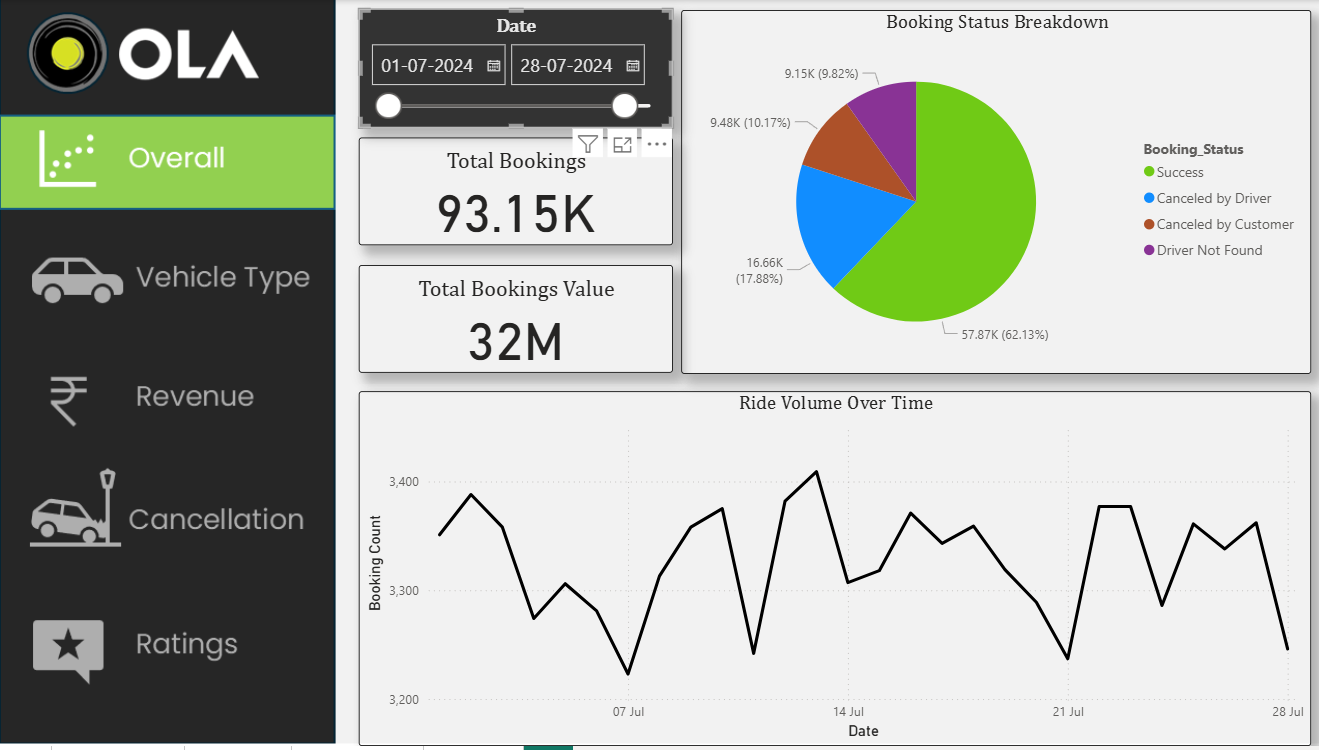

The page's visual inventory and layout, read from the dashboard file:
{"tool":"powerbi","page":{"name":"Overall","canvas":[1280,720],"ordinal":0},"visuals":[{"type":"actionButton","box":[0,220.8,324.5,92.9],"z":0},{"type":"actionButton","box":[0,341.4,324.5,92.9],"z":1000},{"type":"actionButton","box":[0,450,324.5,92.9],"z":2000},{"type":"actionButton","box":[0,581.5,324.5,92.9],"z":3000},{"type":"lineChart","title":"Ride Volume Over Time","fields":{"Category":["July.Date"],"Y":["CountNonNull(July.Booking_ID)"]},"box":[346.2,377.6,919.3,342.6],"z":4000},{"type":"actionButton","box":[0,108.6,324.5,92.9],"z":5000},{"type":"pieChart","title":"Booking Status Breakdown","fields":{"Category":["July.Booking_Status"],"Y":["CountNonNull(July.Booking_Status)"]},"box":[657.5,9.7,608,351.1],"z":6000},{"type":"slicer","title":"Date","fields":{"Values":["July.Date"]},"box":[346.2,8.4,302.8,114.6],"z":7000},{"type":"card","title":"Total Bookings","fields":{"Values":["Count(July.Booking_ID)"]},"box":[346.2,132.7,302.8,103.8],"z":8000},{"type":"card","title":"Total Bookings Value","fields":{"Values":["Sum(July.Booking_Value)"]},"box":[345.8,255.2,303.3,104.3],"z":9000}]}

Visuals, with their boxes in screenshot pixels (x1, y1, x2, y2), scaled from the page's 1280x720 canvas onto the 1319x750 screenshot:
actionButton: bbox(0, 230, 334, 327)
actionButton: bbox(0, 356, 334, 452)
actionButton: bbox(0, 469, 334, 566)
actionButton: bbox(0, 606, 334, 702)
"Ride Volume Over Time" lineChart: bbox(357, 393, 1304, 749)
actionButton: bbox(0, 113, 334, 210)
"Booking Status Breakdown" pieChart: bbox(678, 10, 1304, 376)
"Date" slicer: bbox(357, 9, 669, 128)
"Total Bookings" card: bbox(357, 138, 669, 246)
"Total Bookings Value" card: bbox(356, 266, 669, 374)
